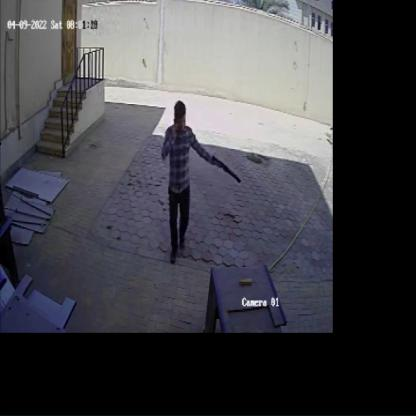handgun: (211, 150, 243, 190)
